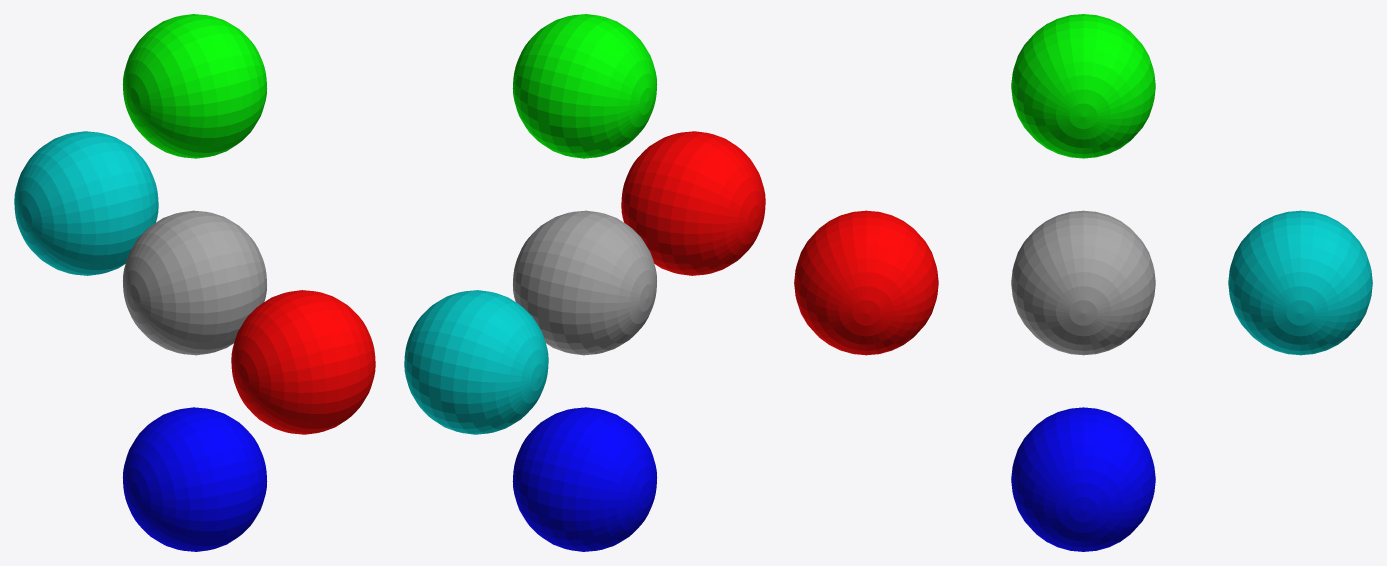
The model's file is spheres.obj.
3 views of the same model, side by side, from view 1: azimuth 30°, elevation 25°; view 2: azimuth 150°, elevation 25°; view 3: azimuth 270°, elevation 25° (orthographic).
Parts seen in each view (by area): view 1: Sphere.004, Sphere.001, Sphere.002, Sphere.003, Sphere; view 2: Sphere.003, Sphere.001, Sphere.002, Sphere.004, Sphere; view 3: Sphere.001, Sphere.002, Sphere.003, Sphere.004, Sphere.
Boxes of the visible parts, left/top/right/bottom form: Sphere.004: left=231, top=290, right=375, bottom=434; Sphere.001: left=122, top=407, right=267, bottom=551; Sphere.002: left=122, top=14, right=267, bottom=158; Sphere.003: left=14, top=131, right=158, bottom=275; Sphere: left=123, top=210, right=266, bottom=355; Sphere.003: left=404, top=290, right=548, bottom=434; Sphere.001: left=512, top=407, right=657, bottom=551; Sphere.002: left=512, top=14, right=657, bottom=158; Sphere.004: left=621, top=131, right=765, bottom=275; Sphere: left=513, top=210, right=656, bottom=355; Sphere.001: left=1011, top=407, right=1155, bottom=551; Sphere.002: left=1011, top=14, right=1155, bottom=158; Sphere.003: left=1228, top=210, right=1372, bottom=355; Sphere.004: left=794, top=210, right=938, bottom=355; Sphere: left=1011, top=210, right=1155, bottom=355.
Bounding box in the file's own units: 2 × 8 × 8.
